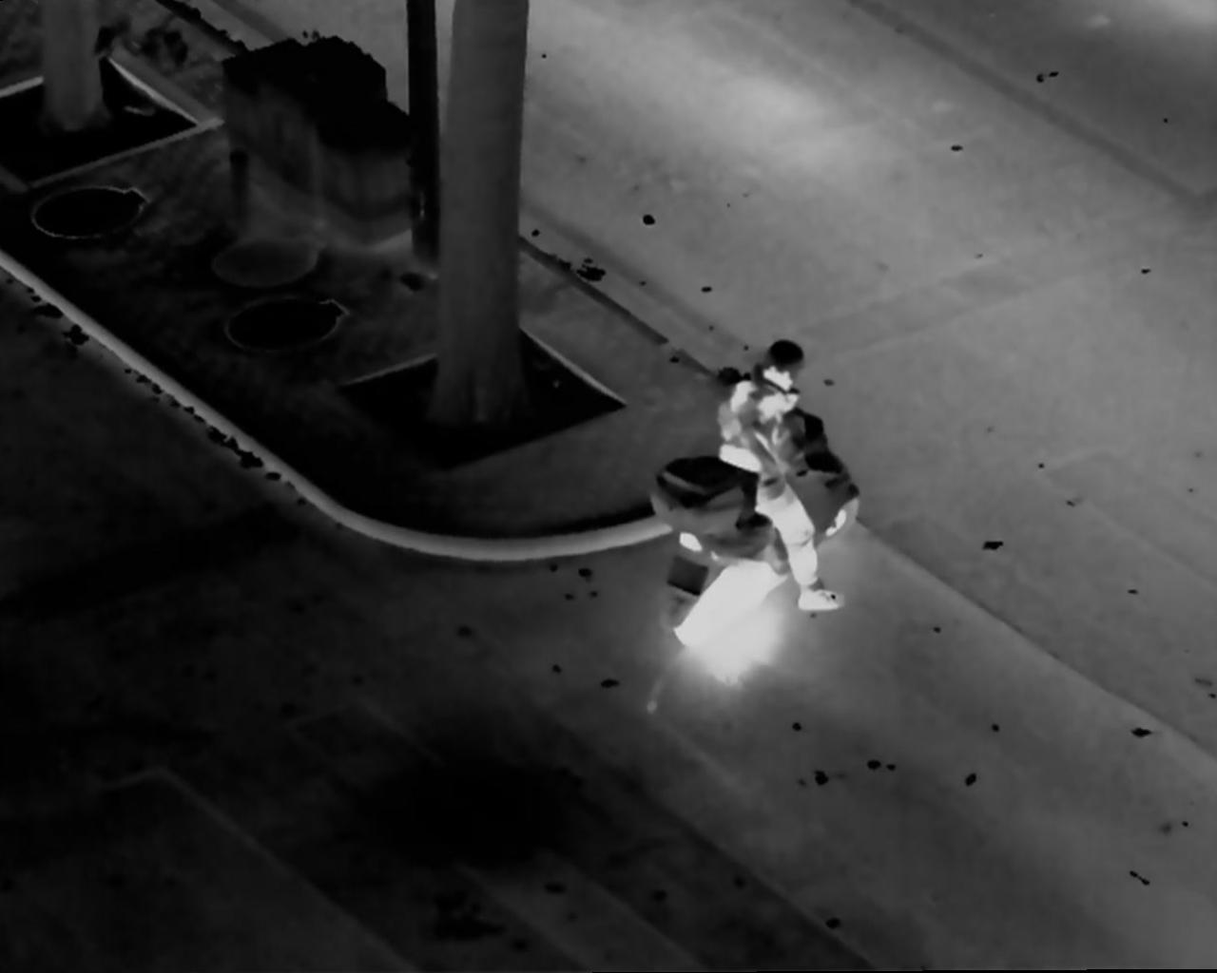person: (722, 334, 842, 615)
